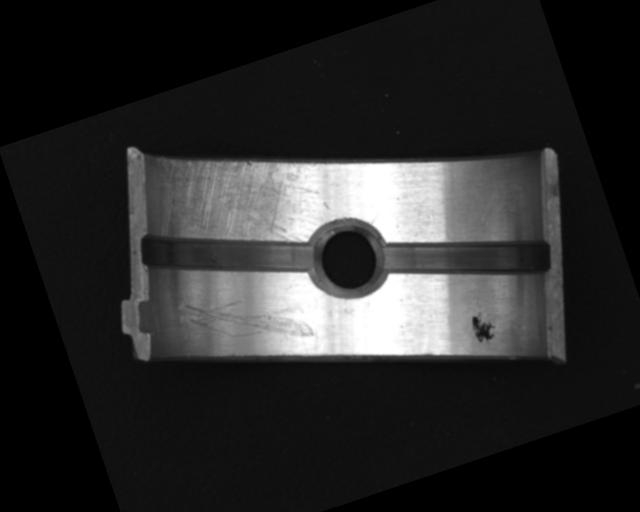blot: (465, 307, 502, 348)
gap: (134, 184, 321, 321), (377, 197, 557, 323)
hole: (306, 217, 393, 305)
nick: (178, 266, 317, 373)
scratch: (141, 110, 335, 287)
